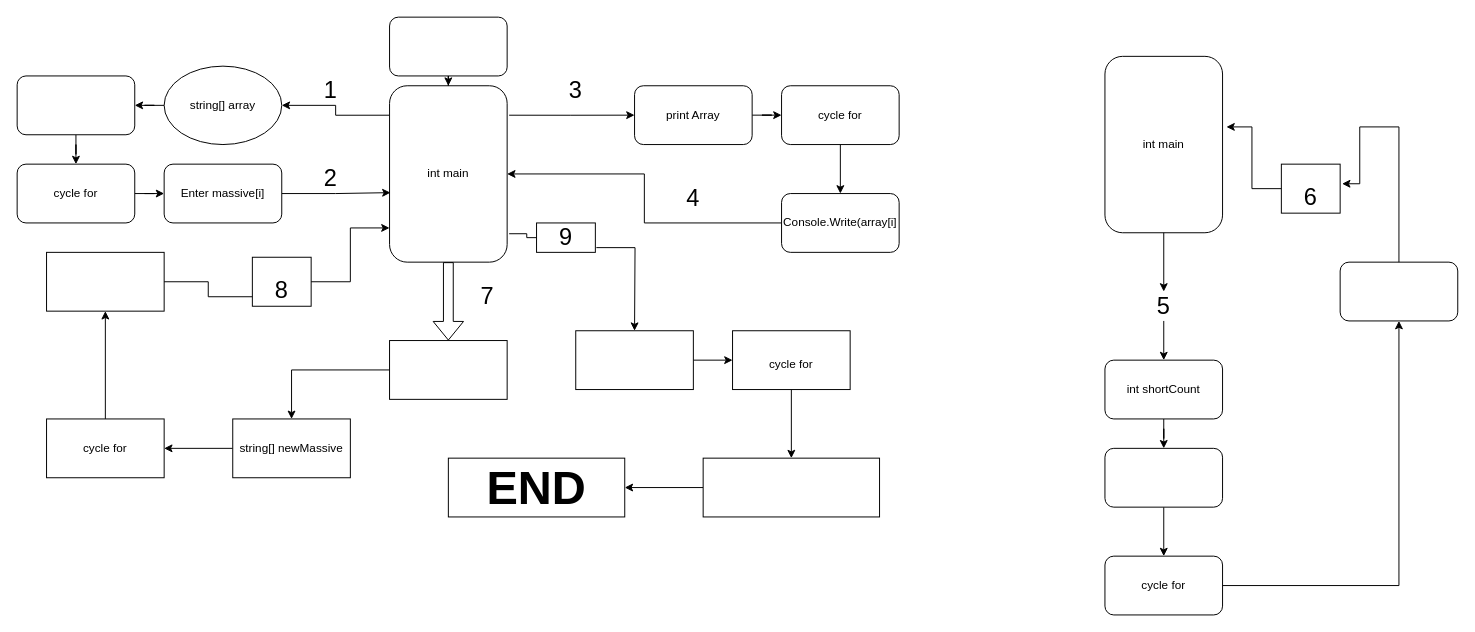
The diagram is 1475 pixels wide and 632 high, and some of its shapes have lost their labels. Each missing label, with the centre of its shape:
"Console.Write(newMass[i]" belongs at point 791,487.
"CountShortStrings" belongs at point 1163,477.
"if mass[i] <= 3 shortCount++" belongs at point 1398,291.
"if() => newMassive[i] = array[i]" belongs at point 105,281.
"Massive create" belongs at point 75,105.
"new massive" belongs at point 448,369.
"PrintNewArray" belongs at point 634,360.
"start" belongs at point 448,46.
